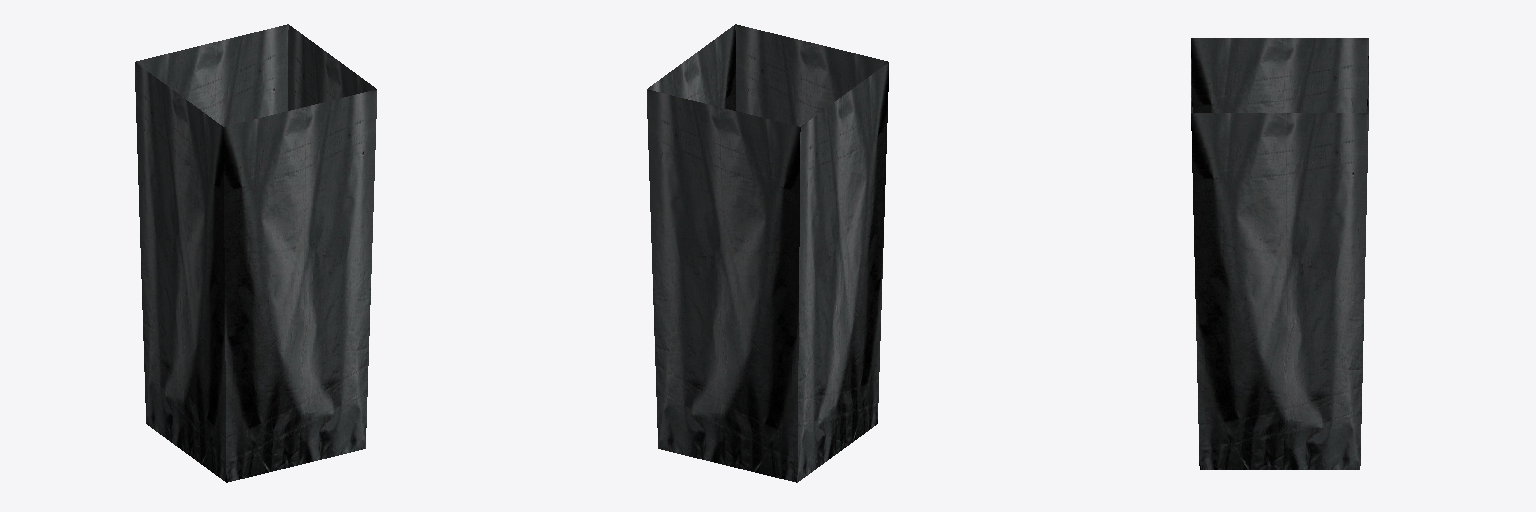
3 renders of one model, left to right at view 1: azimuth 30°, elevation 25°; view 2: azimuth 150°, elevation 25°; view 3: azimuth 270°, elevation 25°, orthographic.
Parts seen in each view (by area): view 1: trashCan_3; view 2: trashCan_3; view 3: trashCan_3.
Boxes of the visible parts, x1=… form: trashCan_3: x1=135, y1=24, x2=376, y2=482; trashCan_3: x1=647, y1=24, x2=888, y2=482; trashCan_3: x1=1191, y1=38, x2=1368, y2=469.
Size of the model in its own units: 0.5574 by 1.25 by 0.5574.
1 materials, 1 textured.